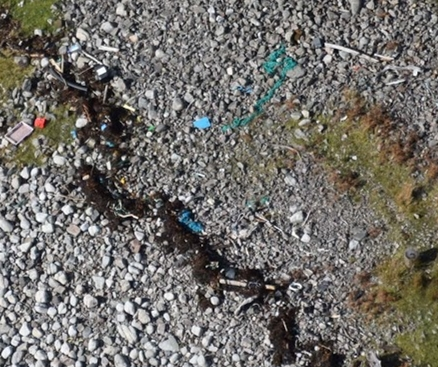net: (246, 40, 299, 96)
straight_bar: (216, 268, 277, 295)
together_barrel: (2, 26, 141, 162)
white_in_green: (162, 193, 224, 250), (384, 233, 438, 286), (179, 99, 223, 140)
